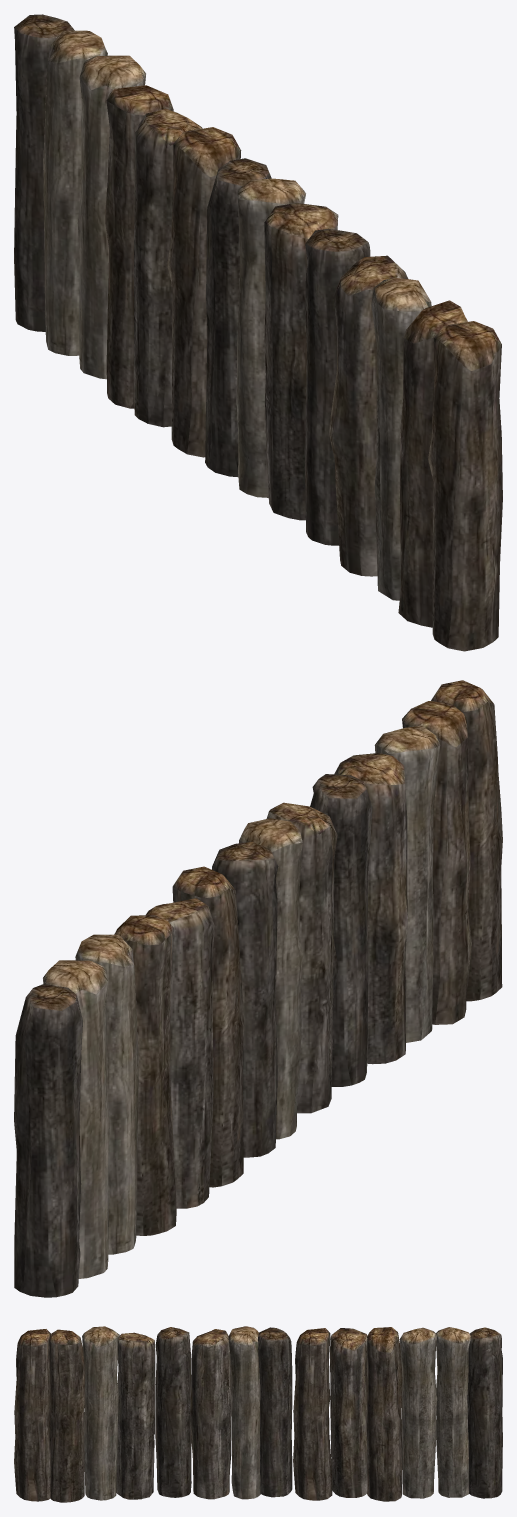
Rendered from o_mdl_env_buildingLogWoodSculptWallShortA-transformed.glb.
The picture shows the model from 3 angles, top to bottom: view 1: azimuth 30°, elevation 25°; view 2: azimuth 150°, elevation 25°; view 3: azimuth 270°, elevation 25°; orthographic projection. The views are drawn at different scales.
Visible parts, largest first — view 1: default; view 2: default; view 3: default.
Boxes of the visible parts, x1,y1,x2,y2 form: default: [14, 14, 502, 651]; default: [14, 680, 502, 1297]; default: [14, 1326, 502, 1502].
Bounding box in the file's own units: 0.9697 × 3.88 × 10.39.
1 material, 1 textured.
